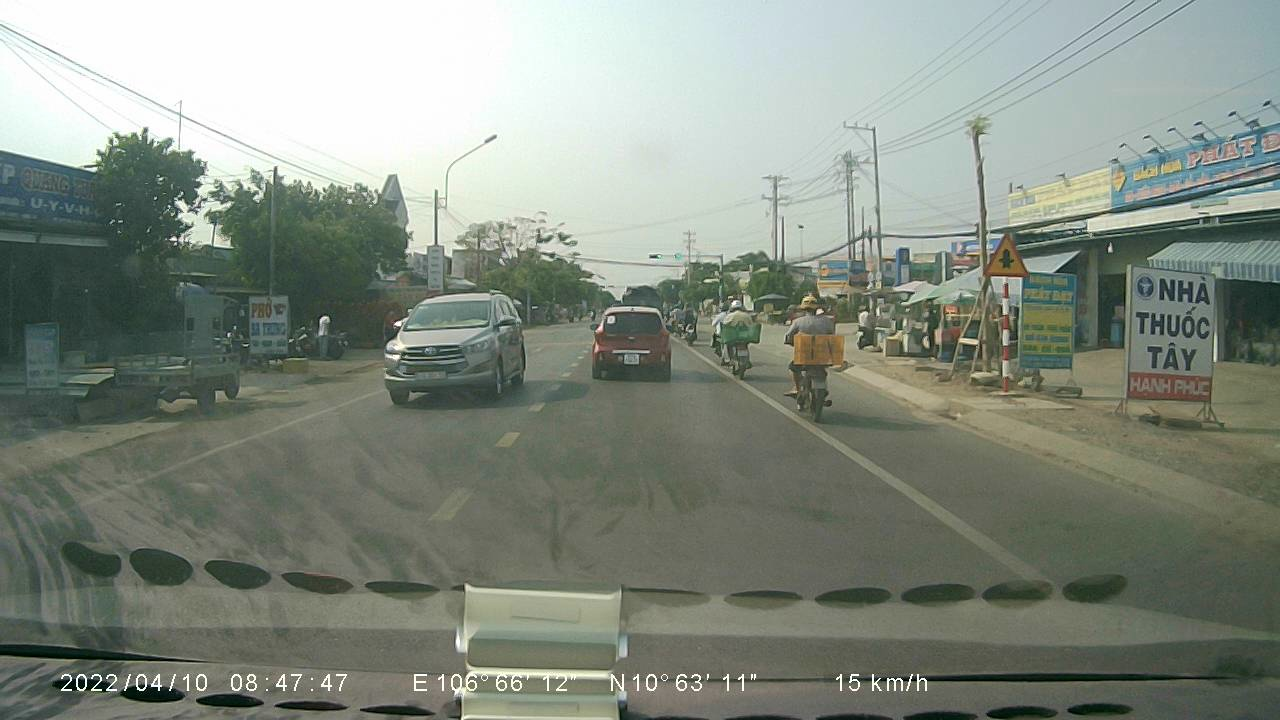Giao nhau voi duong khong uu tien: (980, 228, 1030, 279)
